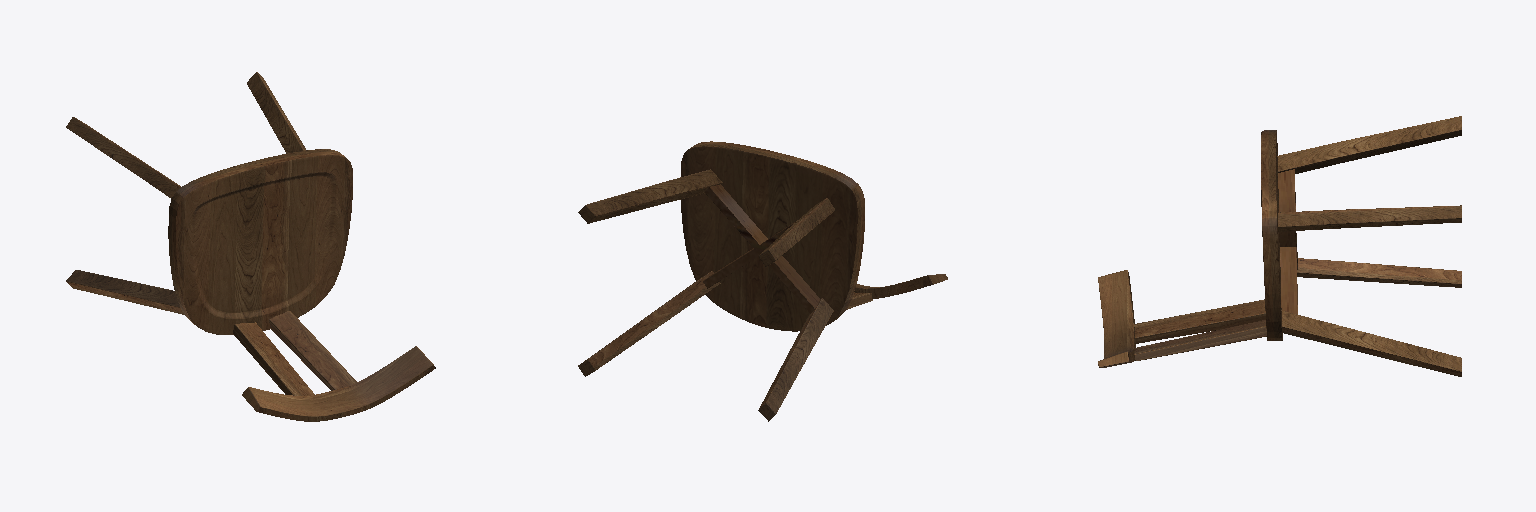
3 views of the same model, side by side, from view 1: azimuth 30°, elevation 25°; view 2: azimuth 150°, elevation 25°; view 3: azimuth 270°, elevation 25° (orthographic).
Size of the model in its own units: 0.5122 by 0.4813 by 0.8157.
1 materials, 1 textured.